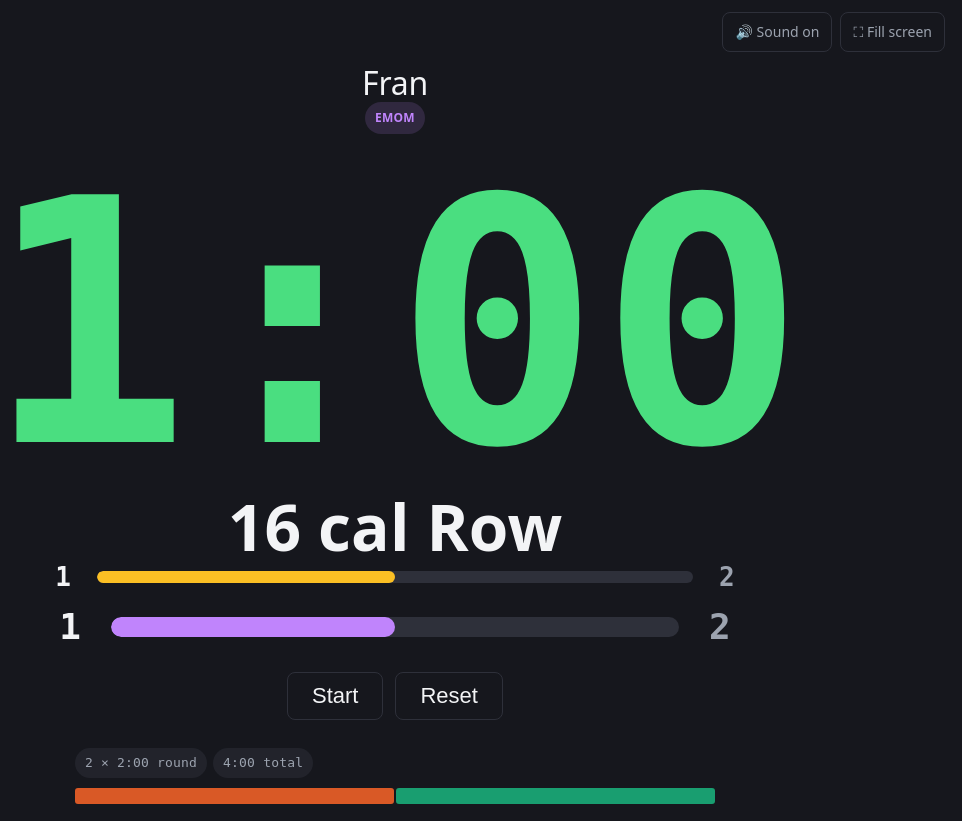
a workout with a clock › offers Pause and Finish once running
Step 1. Click the button "Start" → coordinates (335, 696), box [287,672,384,720]
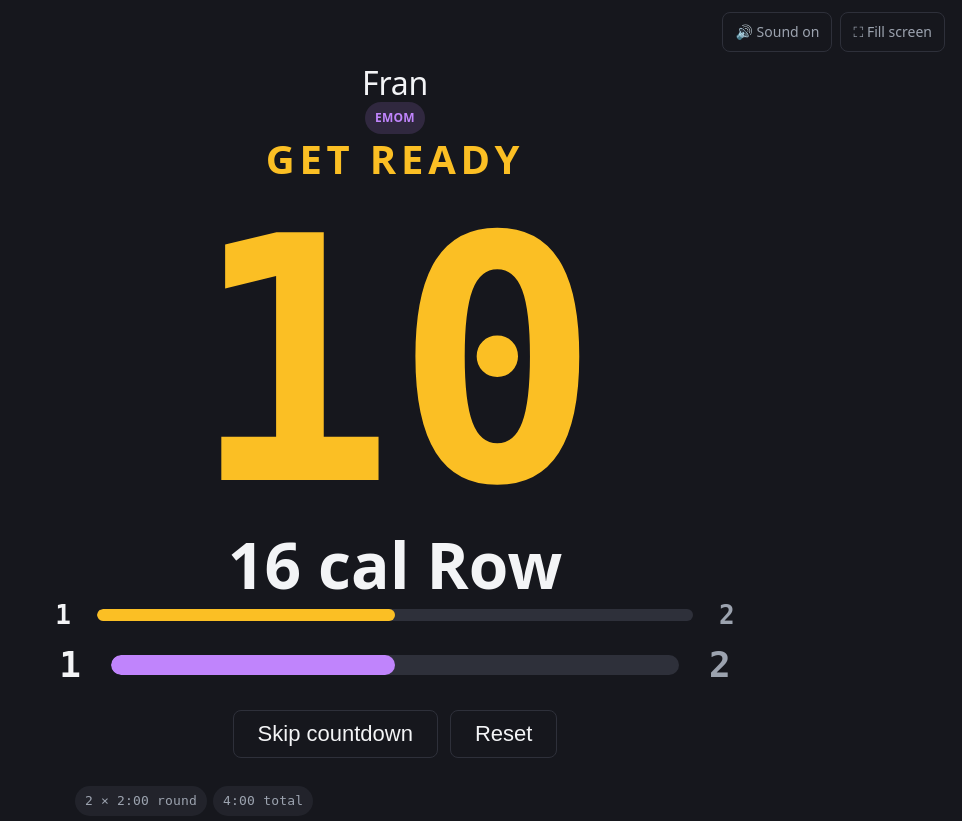
Step 2. Click the button "Skip countdown" → coordinates (335, 734), box [233,710,438,758]
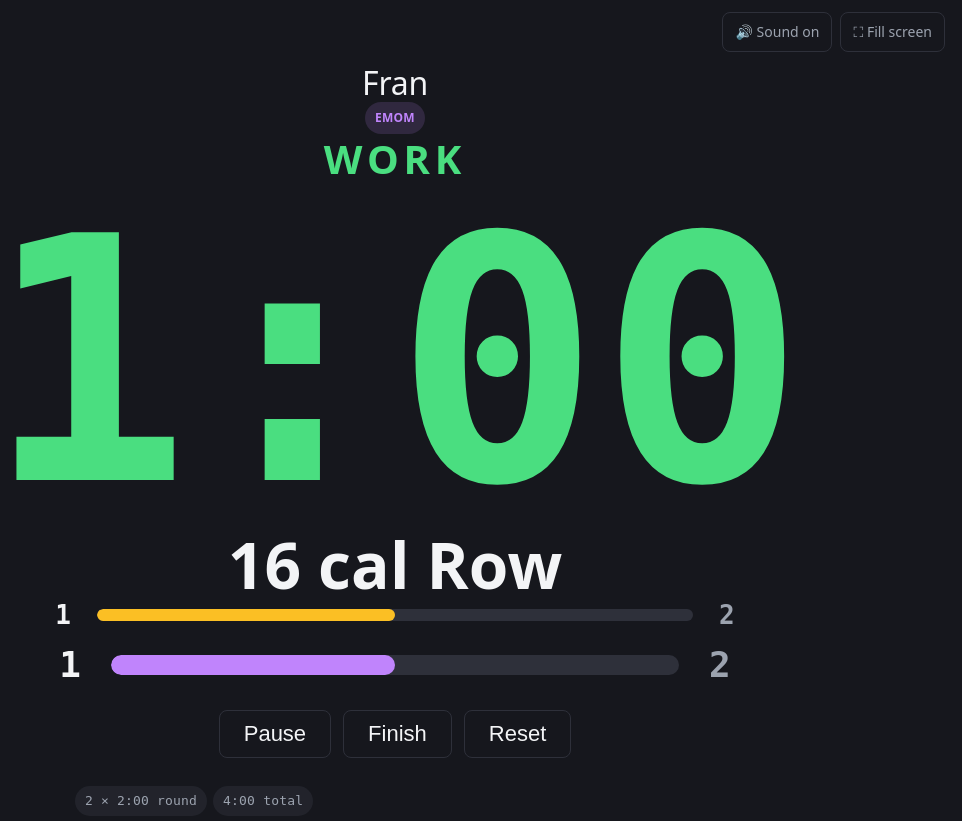
Result: the button "Pause" is shown at [219,710,331,758]
Result: the button "Finish" is shown at [343,710,452,758]
